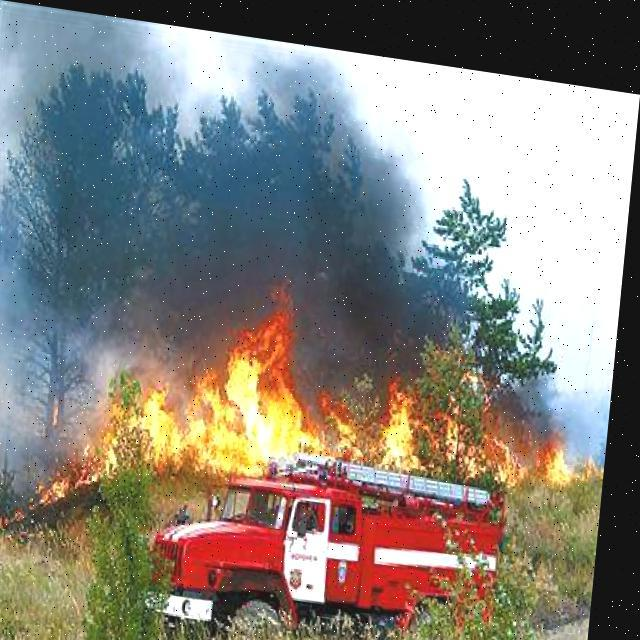Fire: (0, 251, 613, 569)
